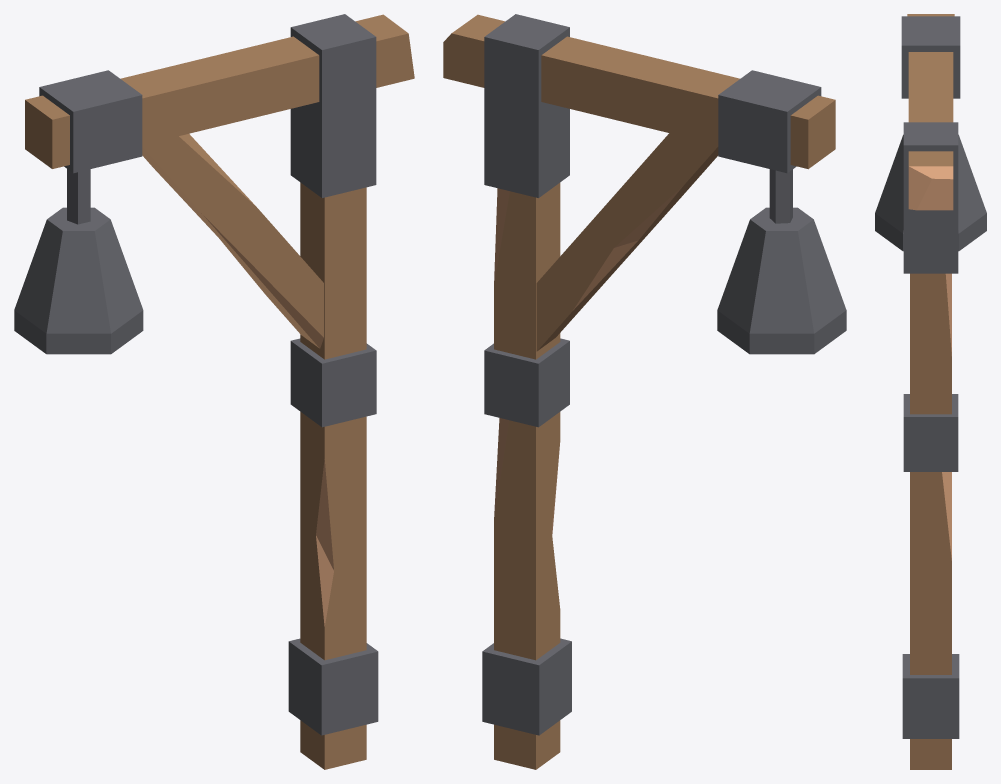
File: Lamp.fbx
The picture shows the model from 3 angles, left to right: view 1: azimuth 30°, elevation 25°; view 2: azimuth 150°, elevation 25°; view 3: azimuth 270°, elevation 25°; orthographic projection. The views are drawn at different scales.
Parts seen in each view (by area): view 1: Lamp; view 2: Lamp; view 3: Lamp.
Part boxes in pixels (bbox=[...]): Lamp: bbox=[14, 14, 414, 769]; Lamp: bbox=[443, 14, 846, 769]; Lamp: bbox=[875, 14, 986, 769].
Size of the model in its own units: 49.46 by 91.5 by 14.8.
